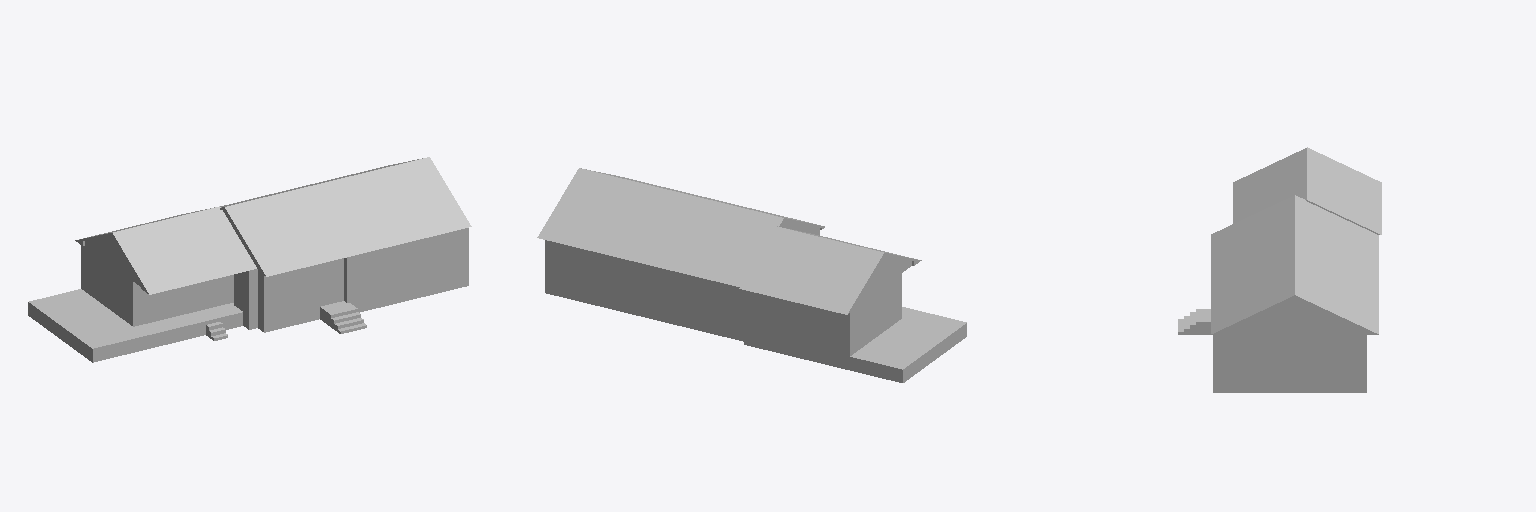
Rendered from putney_facade_v4.obj.
3 renders of one model, left to right at view 1: azimuth 30°, elevation 25°; view 2: azimuth 150°, elevation 25°; view 3: azimuth 270°, elevation 25°, orthographic.
Parts seen in each view (by area): view 1: Mesh1 Group1 Model; view 2: Mesh1 Group1 Model; view 3: Mesh1 Group1 Model.
Boxes of the visible parts, x1=… form: Mesh1 Group1 Model: x1=28, y1=157, x2=471, y2=362; Mesh1 Group1 Model: x1=537, y1=168, x2=966, y2=382; Mesh1 Group1 Model: x1=1178, y1=147, x2=1381, y2=392.
Bounding box in the file's own units: 820 × 213 × 399.